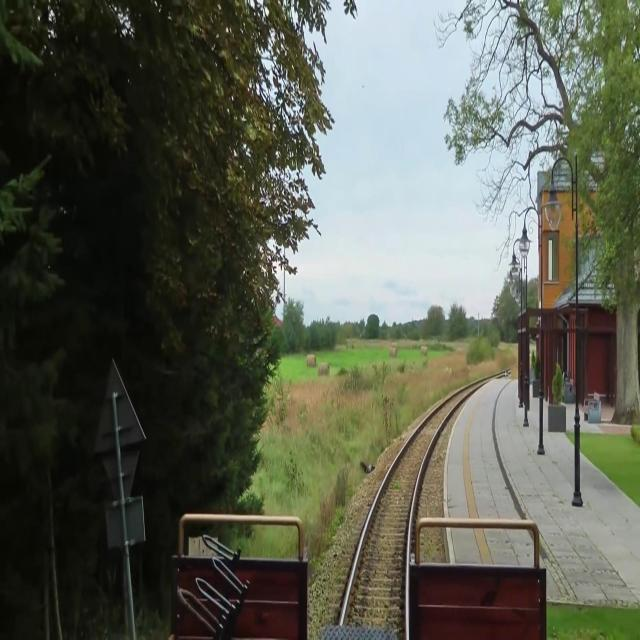rail-track: (345, 392, 462, 625)
